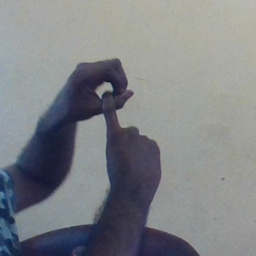Q: (53, 56, 162, 171)
